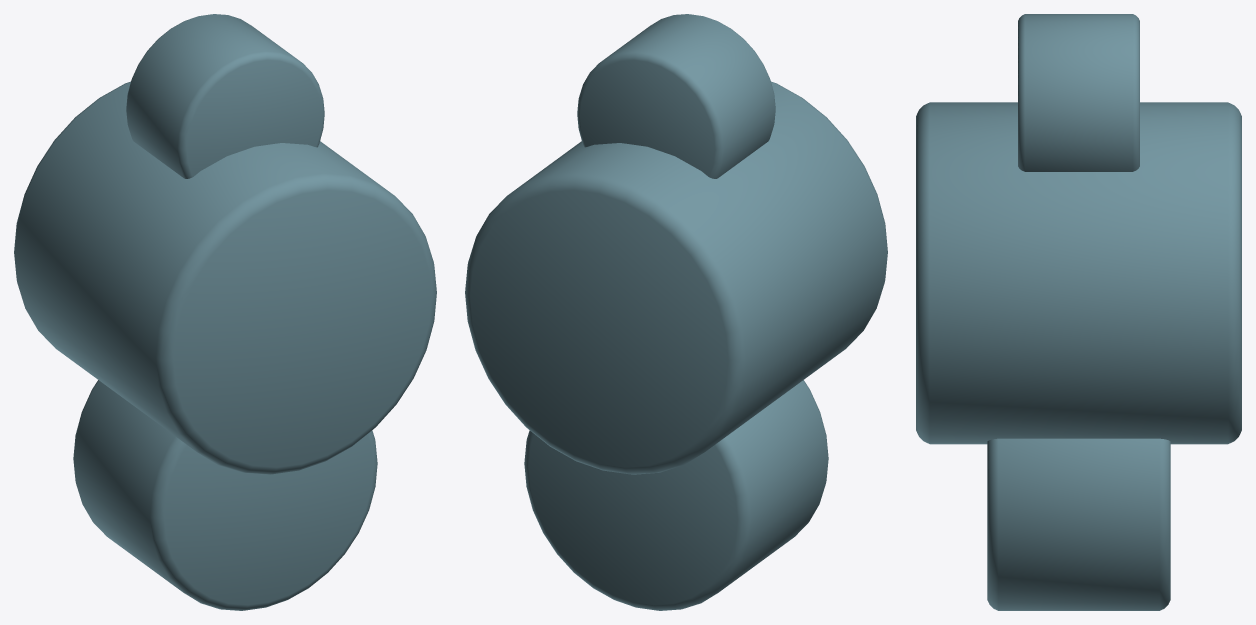
The model's file is ThrusterMedium.fbx.
3 views of the same model, side by side, from view 1: azimuth 30°, elevation 25°; view 2: azimuth 150°, elevation 25°; view 3: azimuth 270°, elevation 25° (orthographic). The views are drawn at different scales.
Parts seen in each view (by area): view 1: Render_LOD0; view 2: Render_LOD0; view 3: Render_LOD0.
Part boxes in pixels (x1,y1,x2,y2): Render_LOD0: (14,14,436,610); Render_LOD0: (465,14,887,610); Render_LOD0: (916,14,1241,610).
Size of what is drawn, in the model's own units: 0.84 by 1.56 by 0.8.
